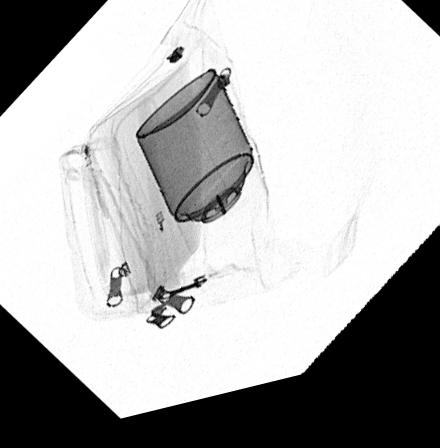Sprayer: (135, 79, 269, 269)
